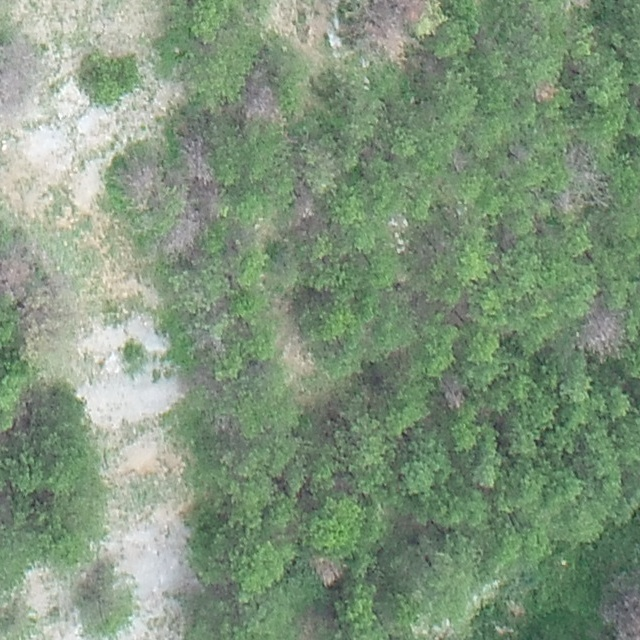unhealthy: (596, 572, 640, 640), (363, 4, 409, 65), (578, 304, 626, 359), (0, 40, 37, 106), (562, 139, 605, 189), (161, 210, 206, 257), (177, 134, 218, 185), (0, 241, 36, 299), (121, 160, 161, 204), (242, 85, 282, 122), (294, 605, 333, 639), (311, 553, 345, 587), (437, 375, 466, 413), (292, 184, 319, 223), (388, 0, 430, 22), (553, 190, 582, 214), (448, 149, 471, 174), (507, 142, 531, 164), (532, 81, 555, 103), (566, 0, 593, 9)
